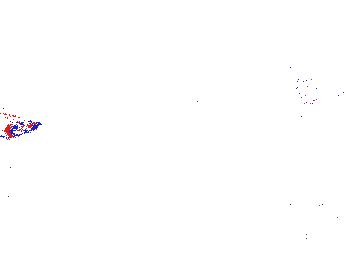glassfish: (1, 109, 42, 139)
redtail glassfish: (155, 54, 245, 88), (282, 46, 337, 76), (308, 96, 346, 114)
